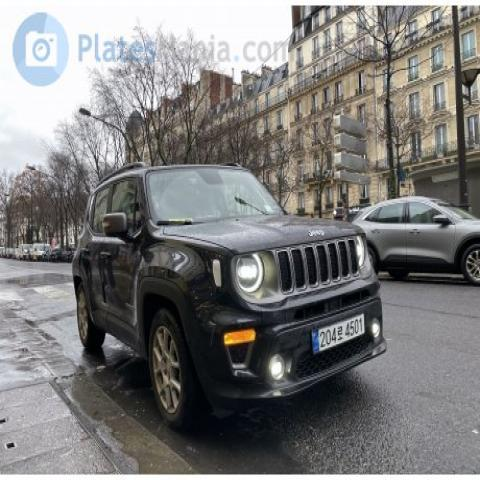LP: (297, 307, 374, 358)
